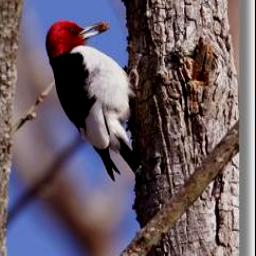Woodpecker: (44, 20, 143, 179)
